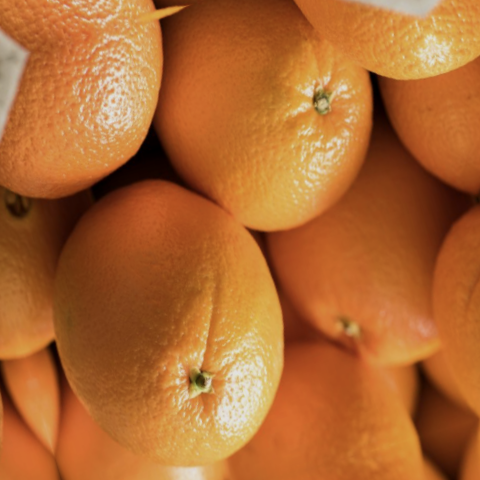orange: (8, 139, 339, 480), (114, 0, 428, 288)
